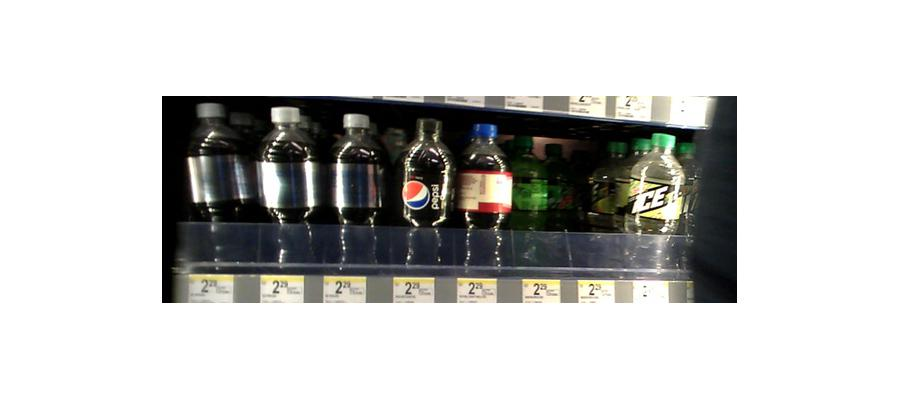bottle: (180, 99, 268, 277), (256, 109, 327, 274), (327, 112, 386, 270), (627, 130, 686, 277), (398, 116, 455, 267), (458, 120, 510, 274), (540, 136, 581, 264), (514, 138, 550, 261)
